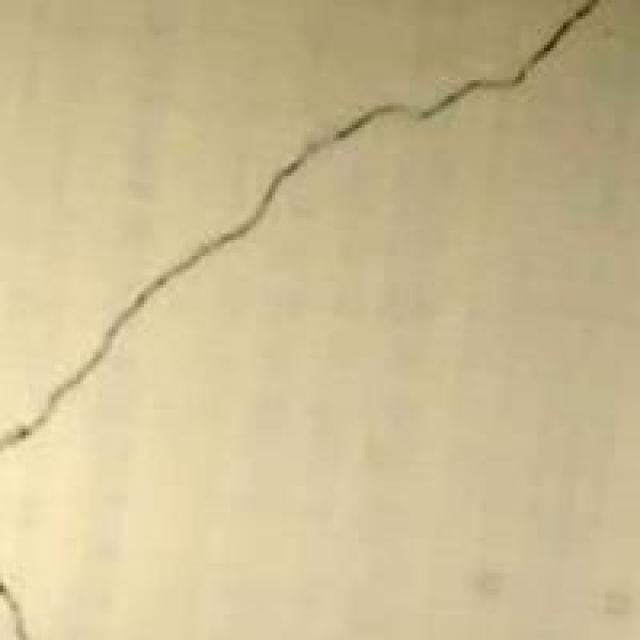crack: (0, 6, 630, 486)
